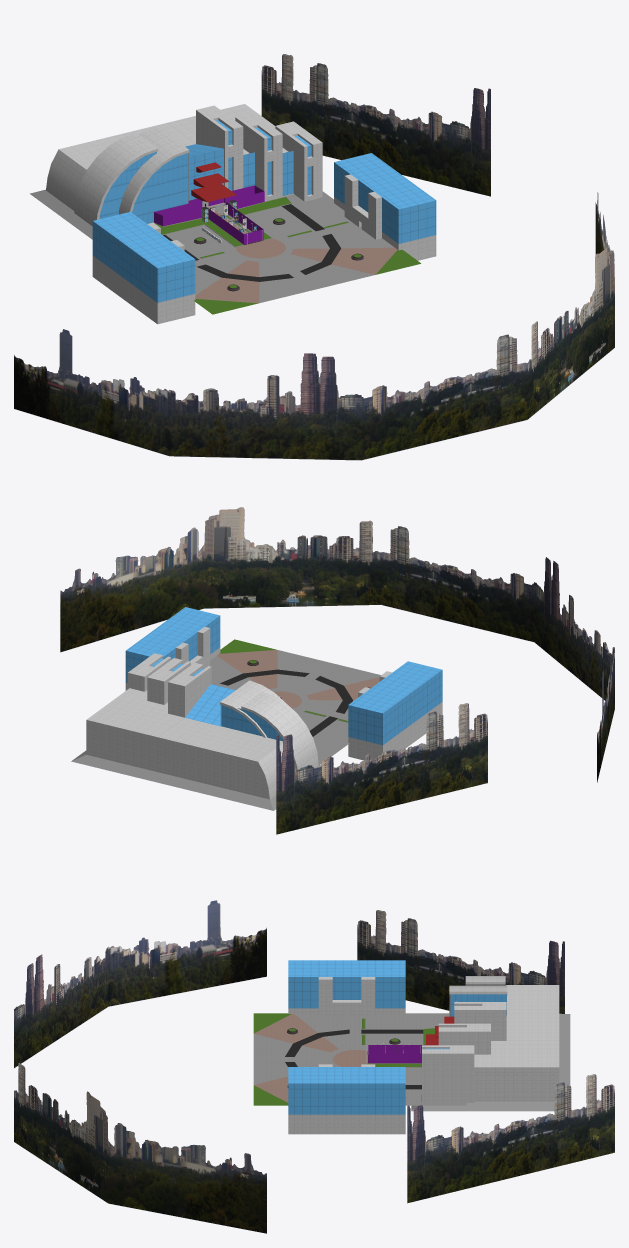
File: fachada.fbx
3 renders of one model, top to bottom at view 1: azimuth 30°, elevation 25°; view 2: azimuth 150°, elevation 25°; view 3: azimuth 270°, elevation 25°, orthographic. The views are drawn at different scales.
Parts seen in each view (by area): view 1: Plane001, Piso_Afuera, Plane002, Edif02, Edif01, Vidrios, Pared_Techo, Arco02, Bloque02, Bloque01, Bordes, Bloque03 (+3 smaller); view 2: Plane001, Plane003, Pared_Techo, Piso_Afuera, Edif02, Edif01, Arco02, Piso_Interno, Vidrios, Bloque01, Bloque02, Arco01 (+1 smaller); view 3: Plane001, Plane002, Piso_Afuera, Edif01, Pared_Techo, Plane003, Edif02, Bloque03, Piso_Interno, Bloque01, Bloque02, Bordes (+2 smaller).
Part boxes in pixels (x1,y1,x2,y2): Plane001: [14, 192, 614, 460]; Piso_Afuera: [163, 191, 420, 314]; Plane002: [261, 54, 490, 196]; Edif02: [92, 212, 195, 324]; Edif01: [334, 153, 436, 260]; Vidrios: [99, 134, 293, 223]; Pared_Techo: [46, 104, 288, 210]; Arco02: [74, 132, 158, 226]; Bloque02: [235, 113, 282, 201]; Bloque01: [196, 105, 243, 203]; Bordes: [154, 185, 264, 244]; Bloque03: [275, 121, 322, 201]; Plane001: [60, 507, 614, 782]; Plane003: [276, 703, 487, 834]; Pared_Techo: [86, 688, 295, 799]; Piso_Afuera: [210, 639, 380, 765]; Edif02: [348, 661, 442, 760]; Edif01: [125, 607, 220, 690]; Arco02: [241, 691, 318, 771]; Piso_Interno: [71, 750, 321, 810]; Vidrios: [185, 684, 282, 741]; Bloque01: [168, 662, 211, 717]; Bloque02: [147, 658, 190, 704]; Arco01: [219, 680, 285, 737]; Plane001: [14, 900, 266, 1233]; Plane002: [407, 1074, 614, 1203]; Piso_Afuera: [253, 1013, 466, 1105]; Edif01: [288, 1064, 405, 1134]; Pared_Techo: [474, 985, 559, 1101]; Plane003: [357, 910, 564, 1013]; Edif02: [288, 960, 405, 1016]; Bloque03: [422, 1045, 474, 1102]; Piso_Interno: [411, 1013, 570, 1111]; Bloque01: [454, 1002, 506, 1040]; Bloque02: [438, 1023, 490, 1054]; Bordes: [368, 1045, 425, 1063].
Bounding box in the file's own units: 332 × 79.83 × 328.
